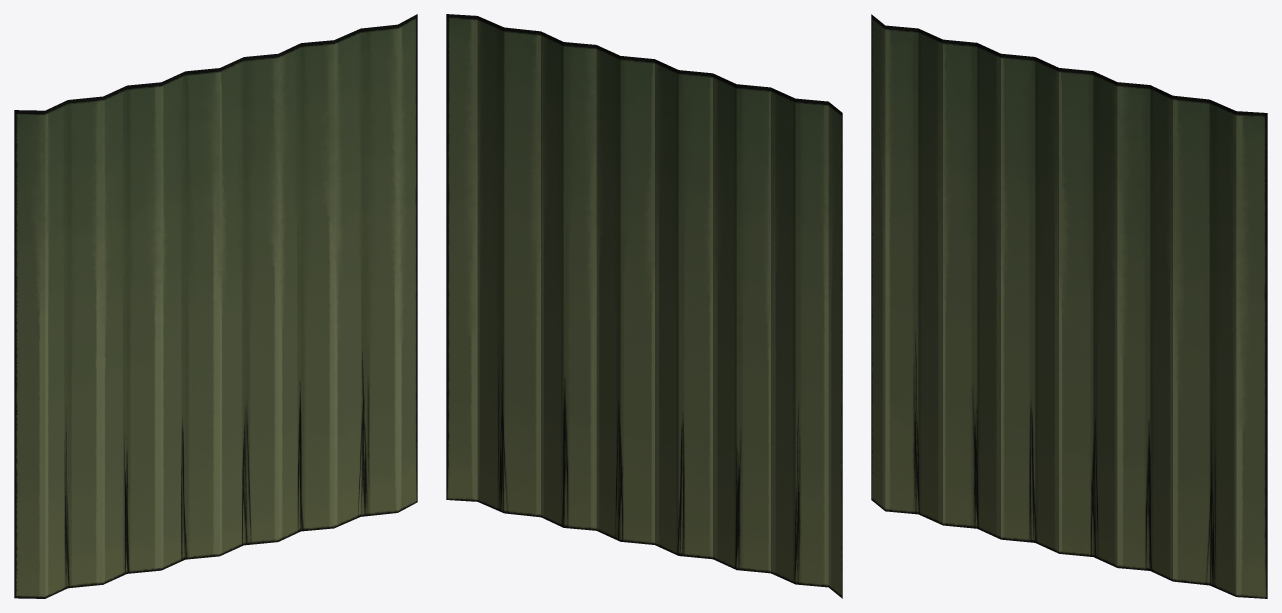
Rendered from curtain_kitchen.fbx.
The picture shows the model from 3 angles, left to right: view 1: azimuth 30°, elevation 25°; view 2: azimuth 150°, elevation 25°; view 3: azimuth 330°, elevation 25°; orthographic projection.
Visible parts, largest first — view 1: curtain_kitchen.001; view 2: curtain_kitchen.001; view 3: curtain_kitchen.001.
Part boxes in pixels (x1,y1,x2,y2): curtain_kitchen.001: (14, 14, 417, 598); curtain_kitchen.001: (446, 14, 842, 598); curtain_kitchen.001: (871, 14, 1267, 598).
Bounding box in the file's own units: 2.9 × 3.37 × 0.1038.
1 material, 1 textured.
